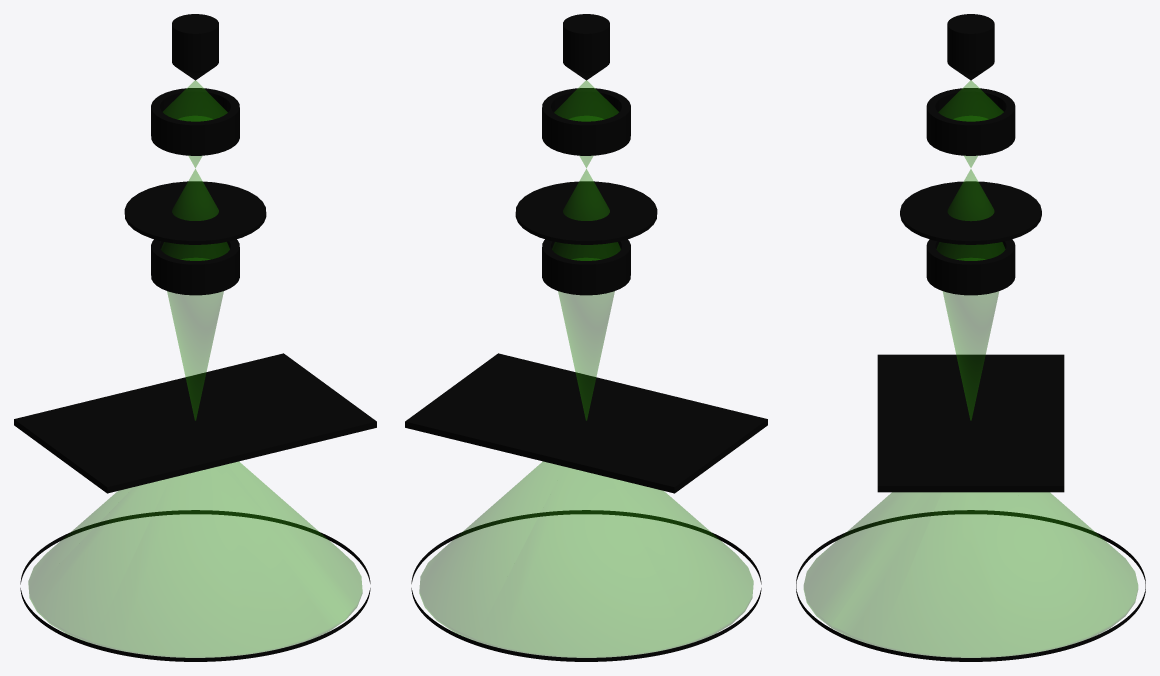
The model's file is stem.glb.
3 renders of one model, left to right at view 1: azimuth 30°, elevation 25°; view 2: azimuth 150°, elevation 25°; view 3: azimuth 270°, elevation 25°, orthographic.
Parts seen in each view (by area): view 1: Cone.005, Cube, Cylinder.001, Cylinder, Cylinder.002, Cone.004, Cylinder.003, Cone, Cone.003, Cone.001; view 2: Cone.005, Cube, Cylinder.001, Cylinder, Cylinder.002, Cone.004, Cylinder.003, Cone, Cone.003, Cone.001; view 3: Cone.005, Cube, Cylinder.001, Cylinder, Cylinder.002, Cone.004, Cylinder.003, Cone, Cone.003, Cone.001.
Part boxes in pixels (x1,y1,x2,y2): Cone.005: (28,461,362,657); Cube: (14,353,376,493); Cylinder.001: (124,181,266,244); Cylinder: (151,88,239,155); Cylinder.002: (151,239,239,295); Cone.004: (167,258,223,420); Cylinder.003: (20,510,370,661); Cone: (172,14,218,80); Cone.003: (161,169,229,260); Cone.001: (163,80,227,121); Cone.005: (419,461,753,657); Cube: (405,353,767,493); Cylinder.001: (515,181,657,244); Cylinder: (542,88,630,155); Cylinder.002: (542,239,630,295); Cone.004: (558,258,614,420); Cylinder.003: (411,510,761,661); Cone: (563,14,609,80); Cone.003: (552,169,620,260); Cone.001: (554,80,618,121); Cone.005: (804,492,1137,657); Cube: (877,354,1064,492); Cylinder.001: (900,181,1041,244); Cylinder: (926,88,1015,155); Cylinder.002: (926,239,1015,295); Cone.004: (943,258,998,420); Cylinder.003: (796,510,1145,661); Cone: (947,14,994,80); Cone.003: (936,169,1005,260); Cone.001: (938,80,1003,121).
Bounding box in the file's own units: 14.79 × 26.36 × 14.79.
